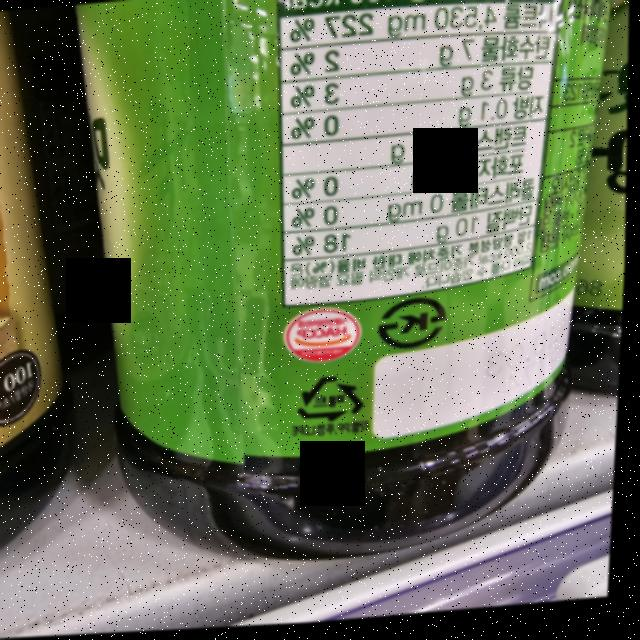PET: (298, 376, 371, 430)
